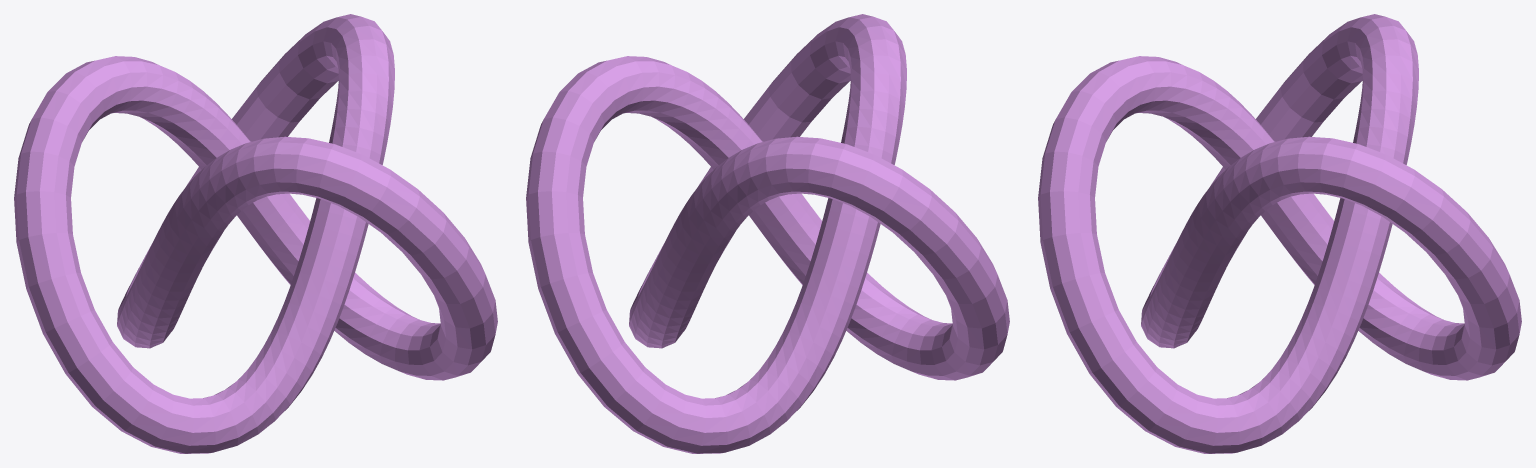
Rendered from torusknot.DAE.
The picture shows the model from 3 angles, left to right: view 1: azimuth 30°, elevation 25°; view 2: azimuth 150°, elevation 25°; view 3: azimuth 270°, elevation 25°; orthographic projection.
Visible parts, largest first — view 1: Torus_Knot01; view 2: Torus_Knot01; view 3: Torus_Knot01.
Part boxes in pixels (left/top/right/bottom): Torus_Knot01: left=14, top=14, right=497, bottom=453; Torus_Knot01: left=526, top=14, right=1009, bottom=453; Torus_Knot01: left=1038, top=14, right=1521, bottom=453.
Size of the model in its own units: 73.79 by 78.84 by 55.75.
